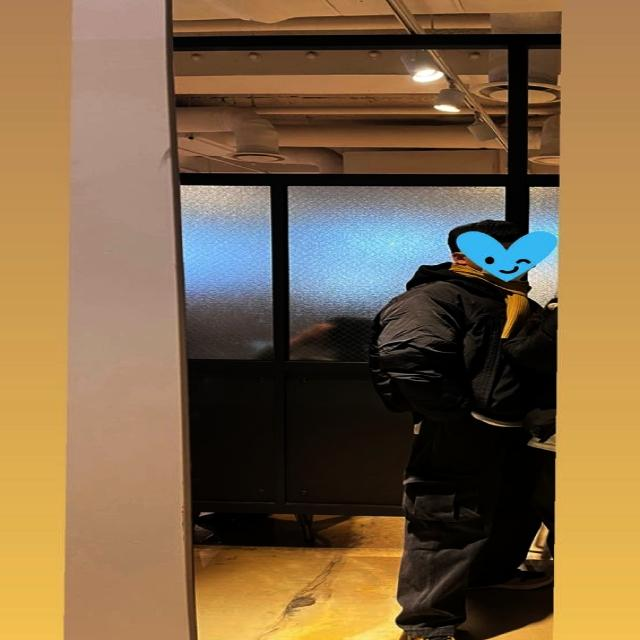cottonpants: (401, 422, 552, 636)
padding: (374, 255, 558, 426)
